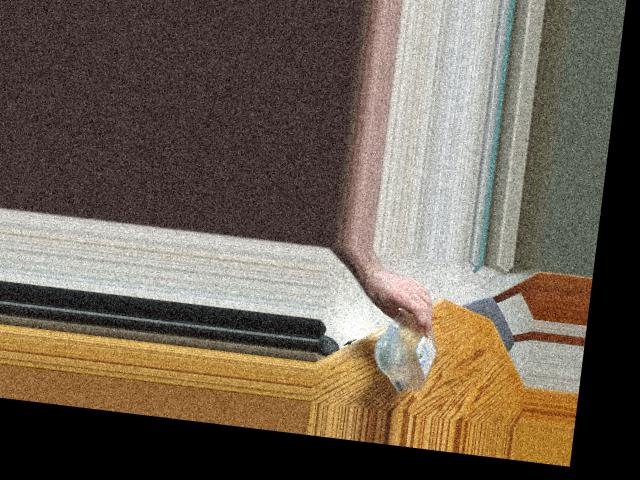cheese: (378, 294, 440, 390)
